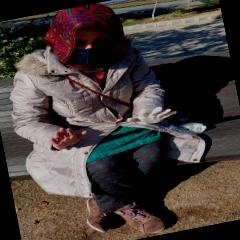gloved: (127, 104, 177, 128)
not-gloved: (52, 122, 87, 149)
